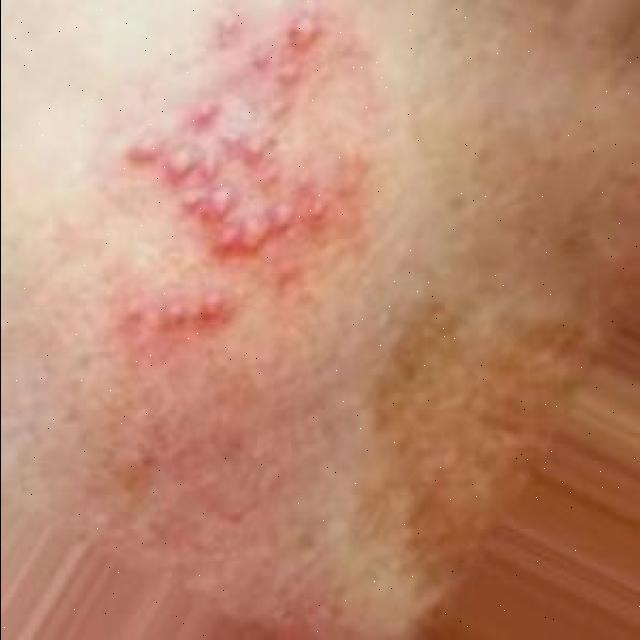Shingles: (122, 15, 345, 337)
